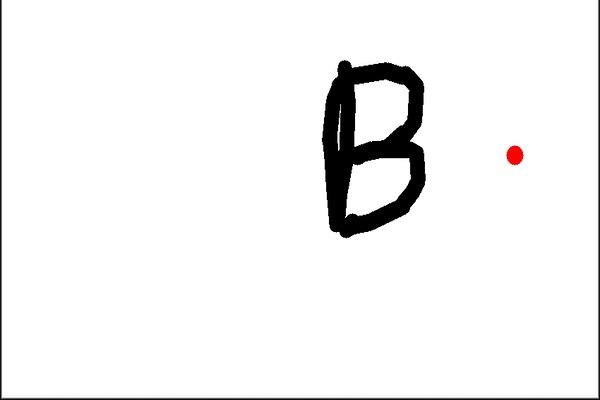B: (310, 50, 438, 246)
